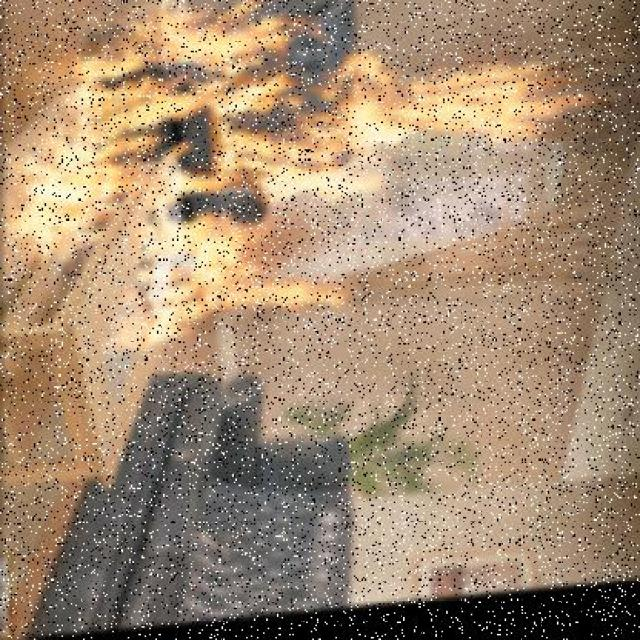fire: (74, 1, 577, 209)
